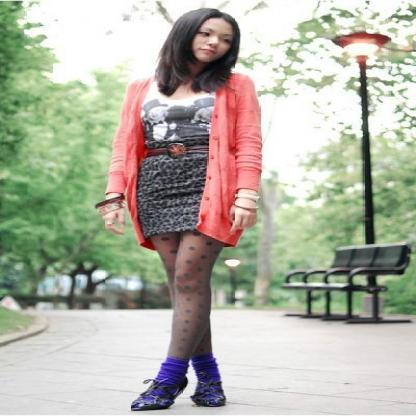dress: (136, 92, 216, 240)
jacket: (105, 72, 262, 240)
shoe: (137, 341, 229, 411)
